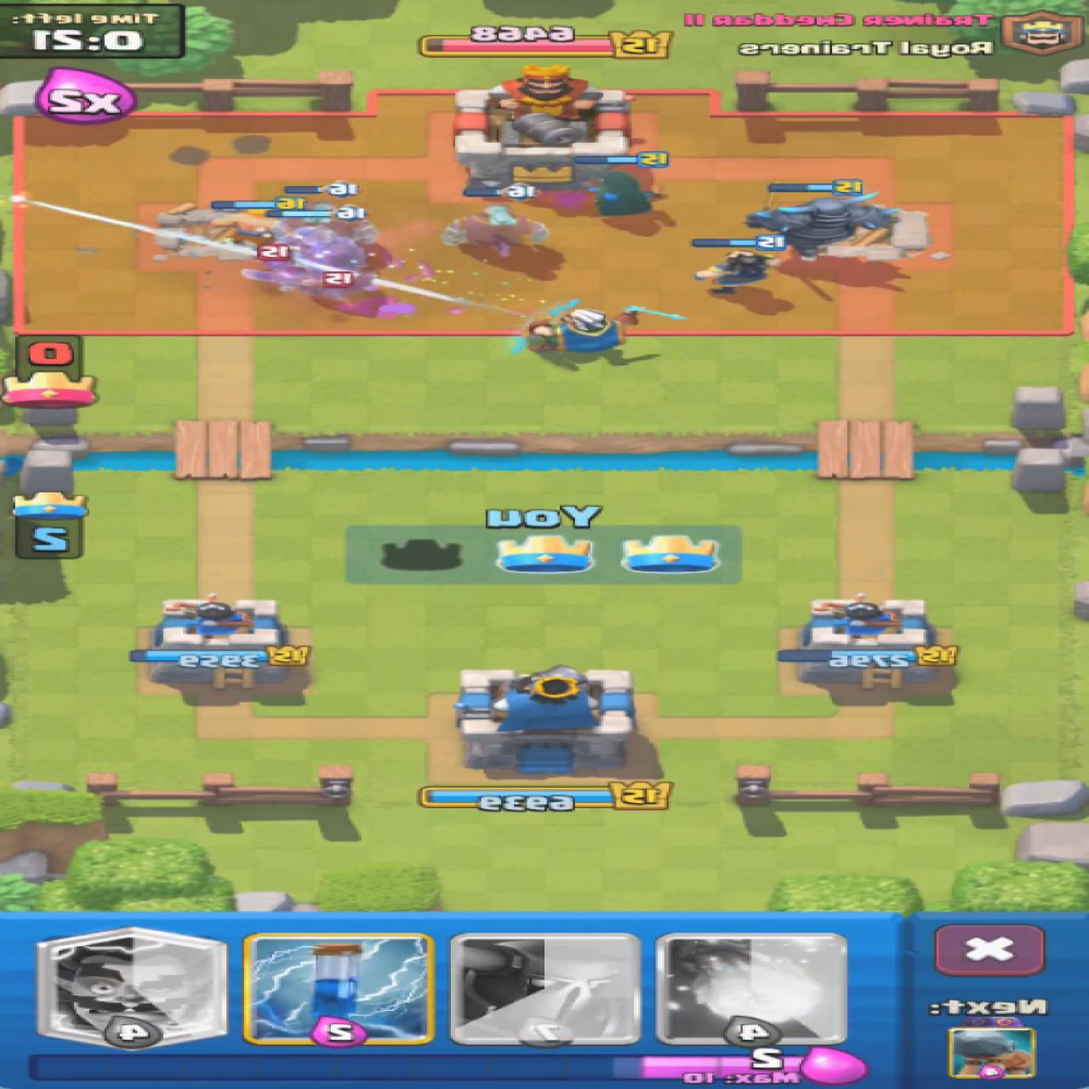Enemy-Bat: (298, 270, 379, 304)
Enemy-KingTower-Activated: (455, 64, 632, 190)
